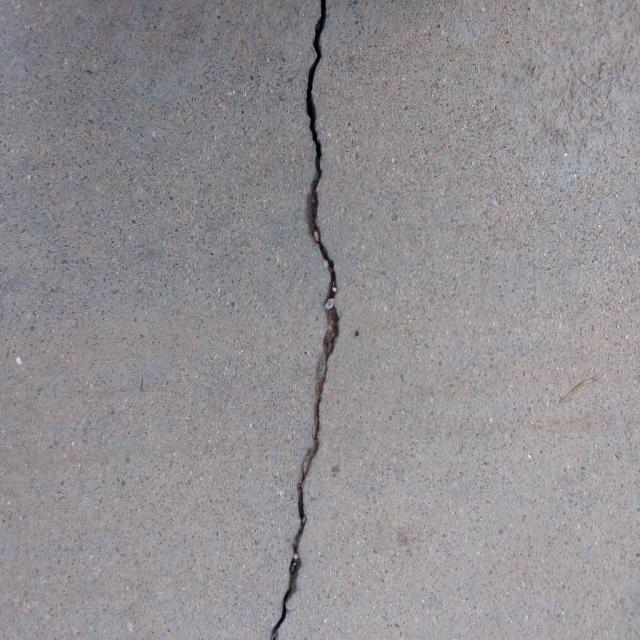cracks: (266, 0, 362, 640)
